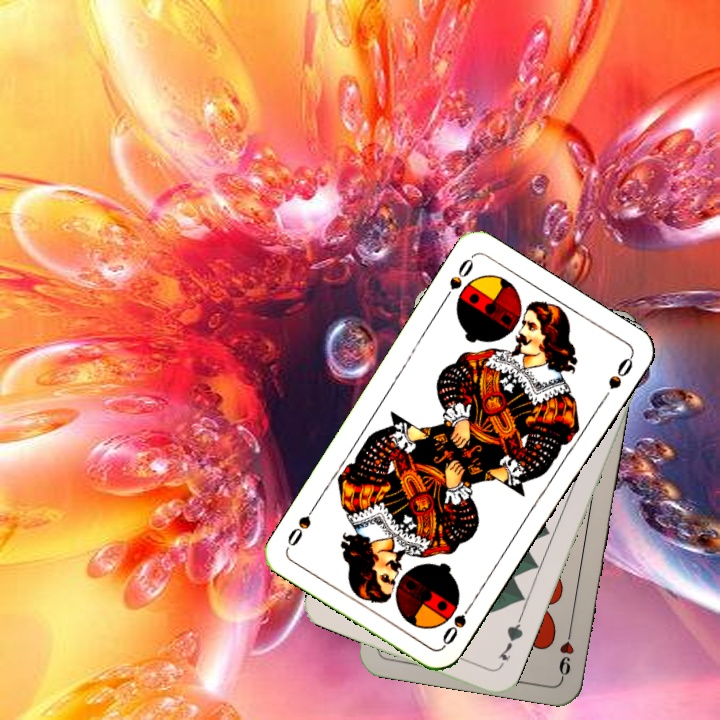G7: (494, 615, 526, 663)
H9: (555, 622, 577, 681)
SO: (438, 596, 477, 649), (438, 252, 476, 305)
